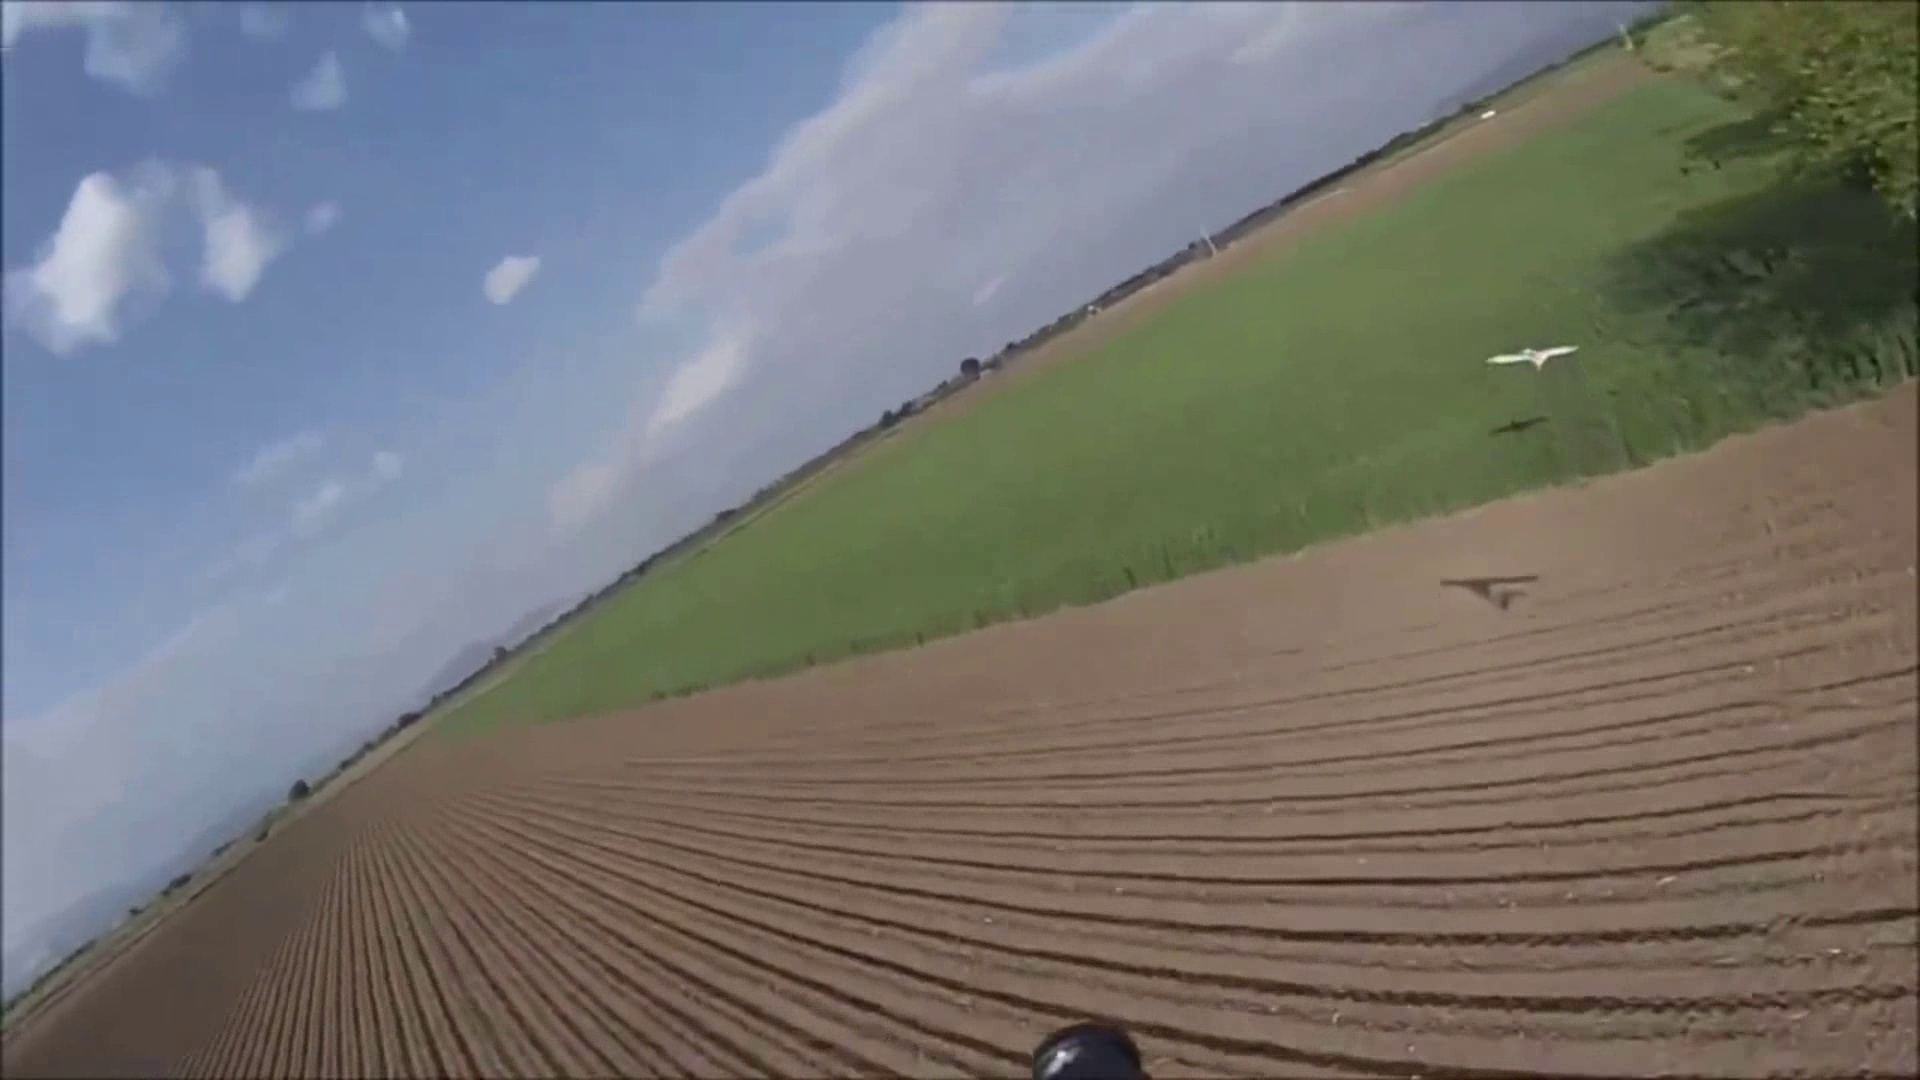airplane: (1484, 343, 1578, 371)
